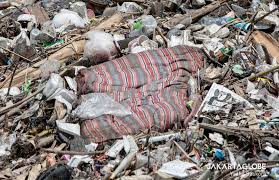garbage: (3, 2, 278, 180)
